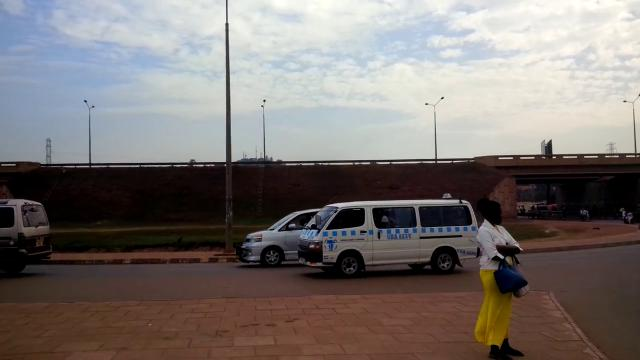van: (298, 192, 482, 277), (236, 204, 320, 267), (0, 195, 56, 269)
